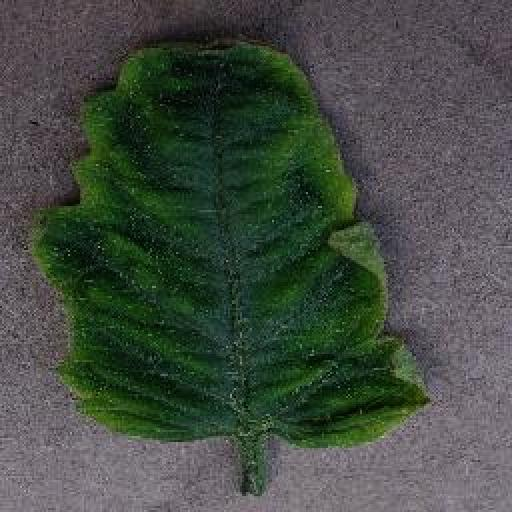disease_tomato: (31, 30, 436, 452)
